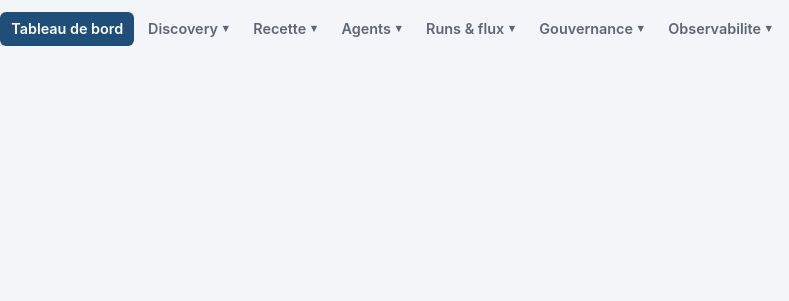
Test case: NavMenu › opening one group closes the previously open one
Click the button "Discovery ▾" at (188, 29), box [137, 12, 240, 46]
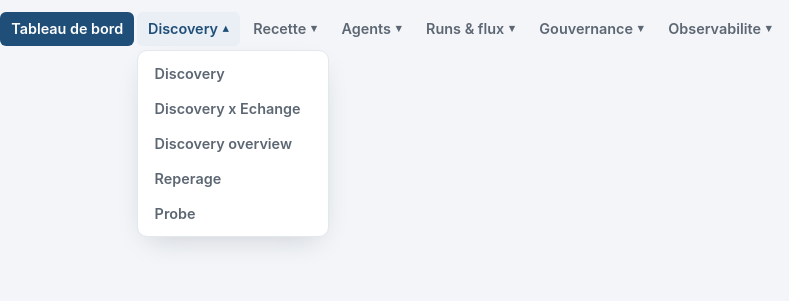
Check: the link "Probe" is shown, box [155, 205, 196, 222]
Click the button "Recette ▾" at (285, 29), box [242, 12, 328, 46]
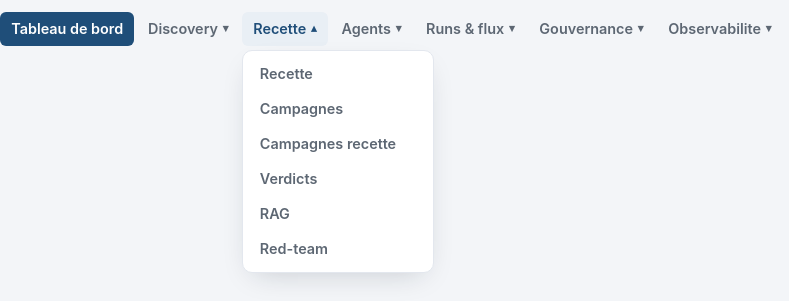
Check: the link "Probe" is gone
Check: the link "Red-team" is shown, box [260, 240, 328, 257]
